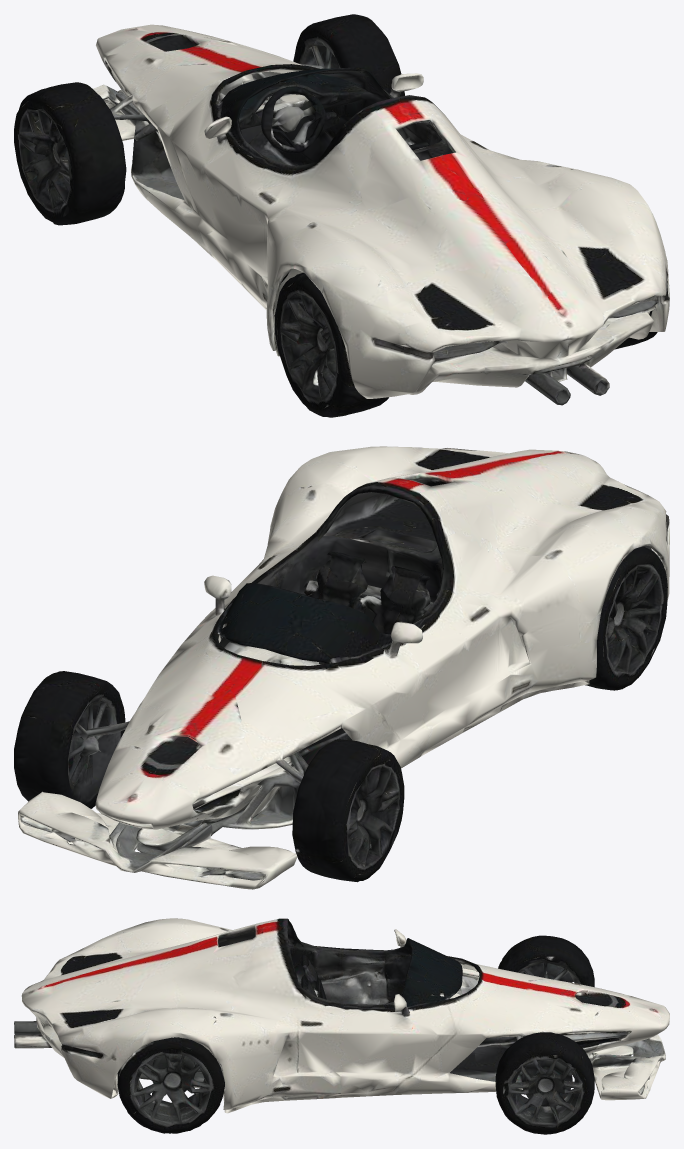
The model's file is hero.glb.
The picture shows the model from 3 angles, top to bottom: view 1: azimuth 30°, elevation 25°; view 2: azimuth 150°, elevation 25°; view 3: azimuth 270°, elevation 25°; orthographic projection. The views are drawn at different scales.
Size of the model in its own units: 0.7925 by 0.4961 by 1.9.
Materials: 1 (1 with a texture image).
